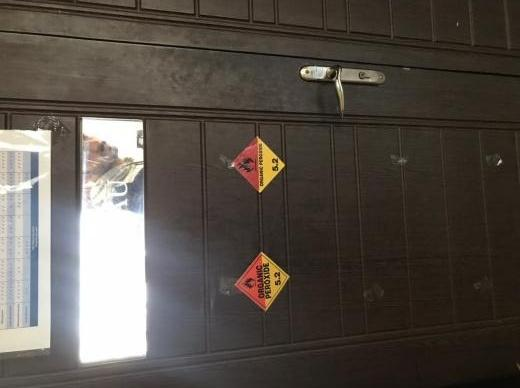organic-peroxide: (236, 252, 290, 312), (233, 135, 286, 193)
